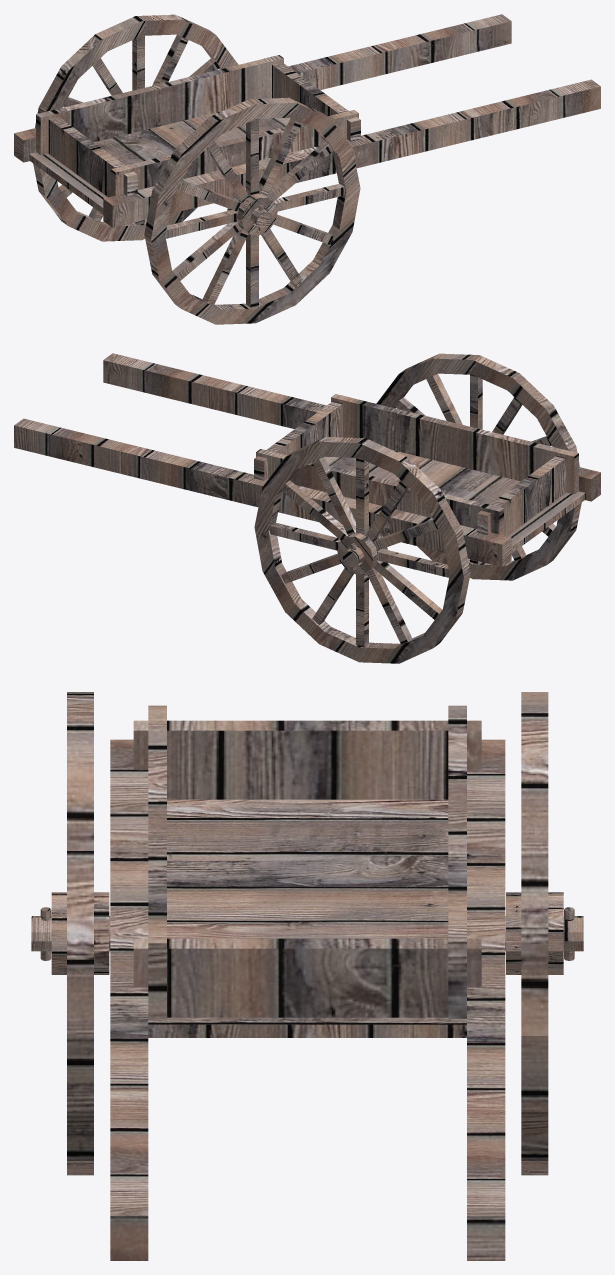
File: Cart_Wood.glb
The picture shows the model from 3 angles, top to bottom: view 1: azimuth 30°, elevation 25°; view 2: azimuth 150°, elevation 25°; view 3: azimuth 270°, elevation 25°; orthographic projection. The views are drawn at different scales.
Parts seen in each view (by area): view 1: Wagon; view 2: Wagon; view 3: Wagon.
Part boxes in pixels (left/top/right/bottom): Wagon: left=14, top=14, right=600, bottom=324; Wagon: left=14, top=353, right=600, bottom=663; Wagon: left=31, top=692, right=583, bottom=1260.
Size of the model in its own units: 2.33 by 1 by 1.14.
Materials: 1 (1 with a texture image).
